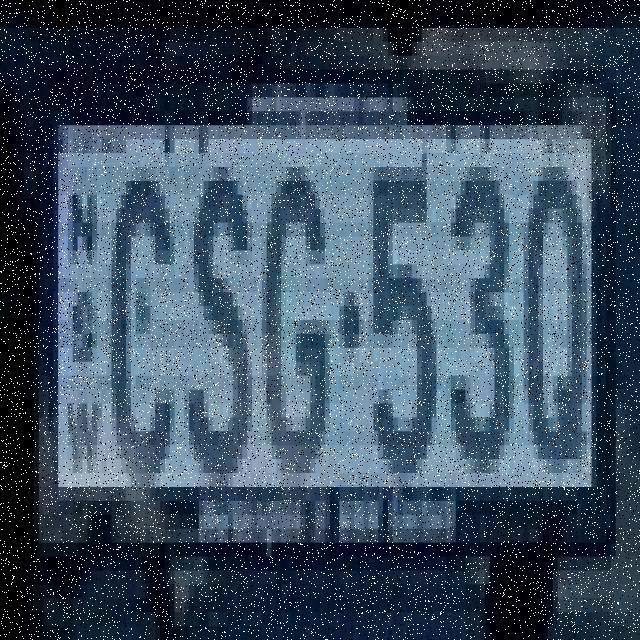LicensePlate: (39, 64, 617, 590)
